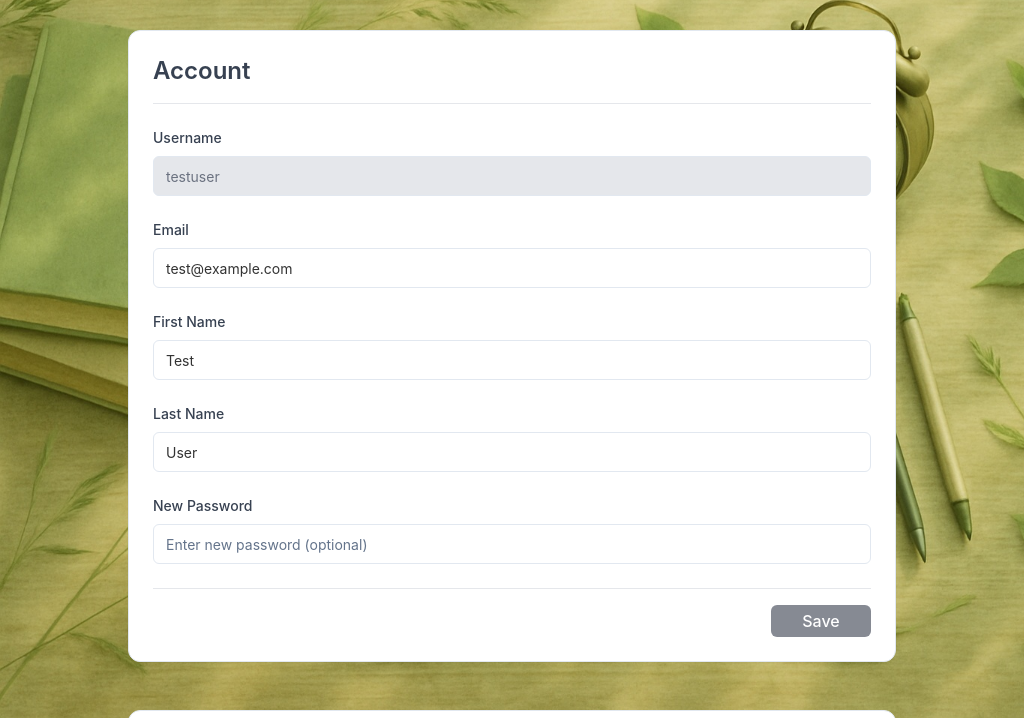
Test: UserSettingsPage › disables the submit button while the form is submitting
// Make a change to enable the button
Replace the text in the field labelled "First Name" with "Updated" at [512, 360], box [153,340,871,380]
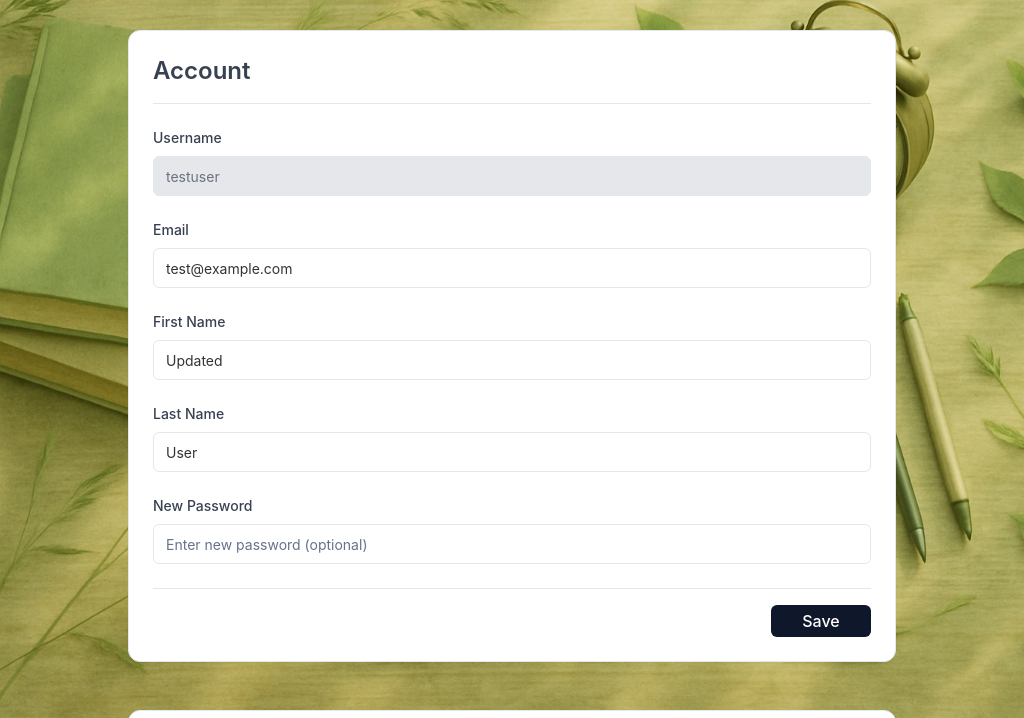
Result: the button "Save" is enabled
Click the button "Save" at [821, 621], box [771,605,871,637]
(page scrolled)
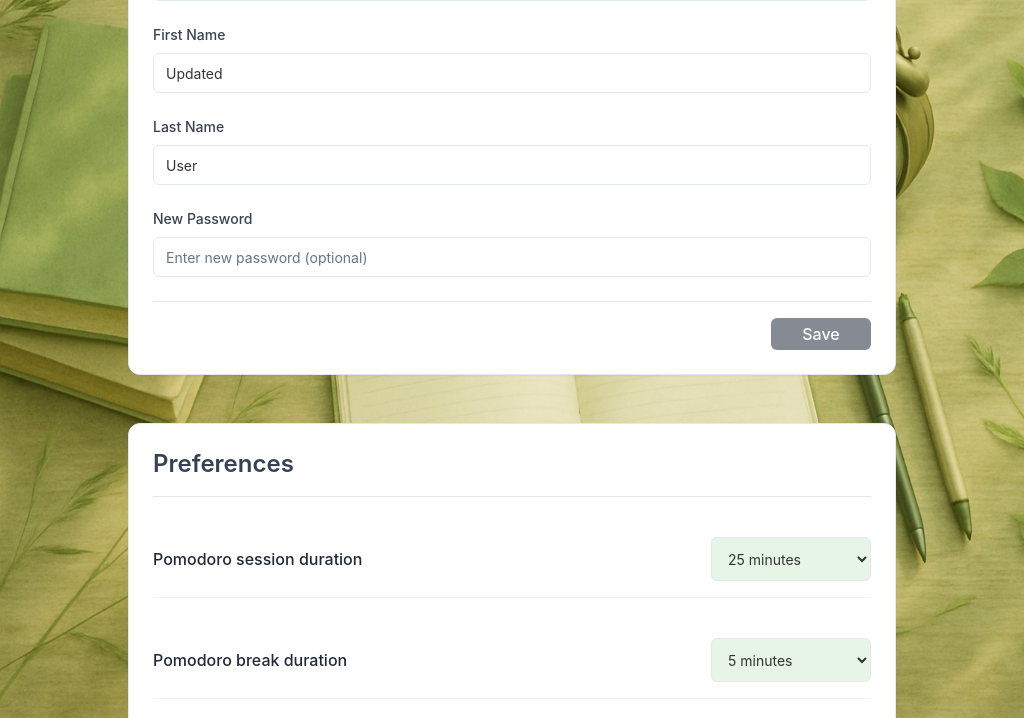
Result: the button "Save" is disabled at [771,318,871,350]
